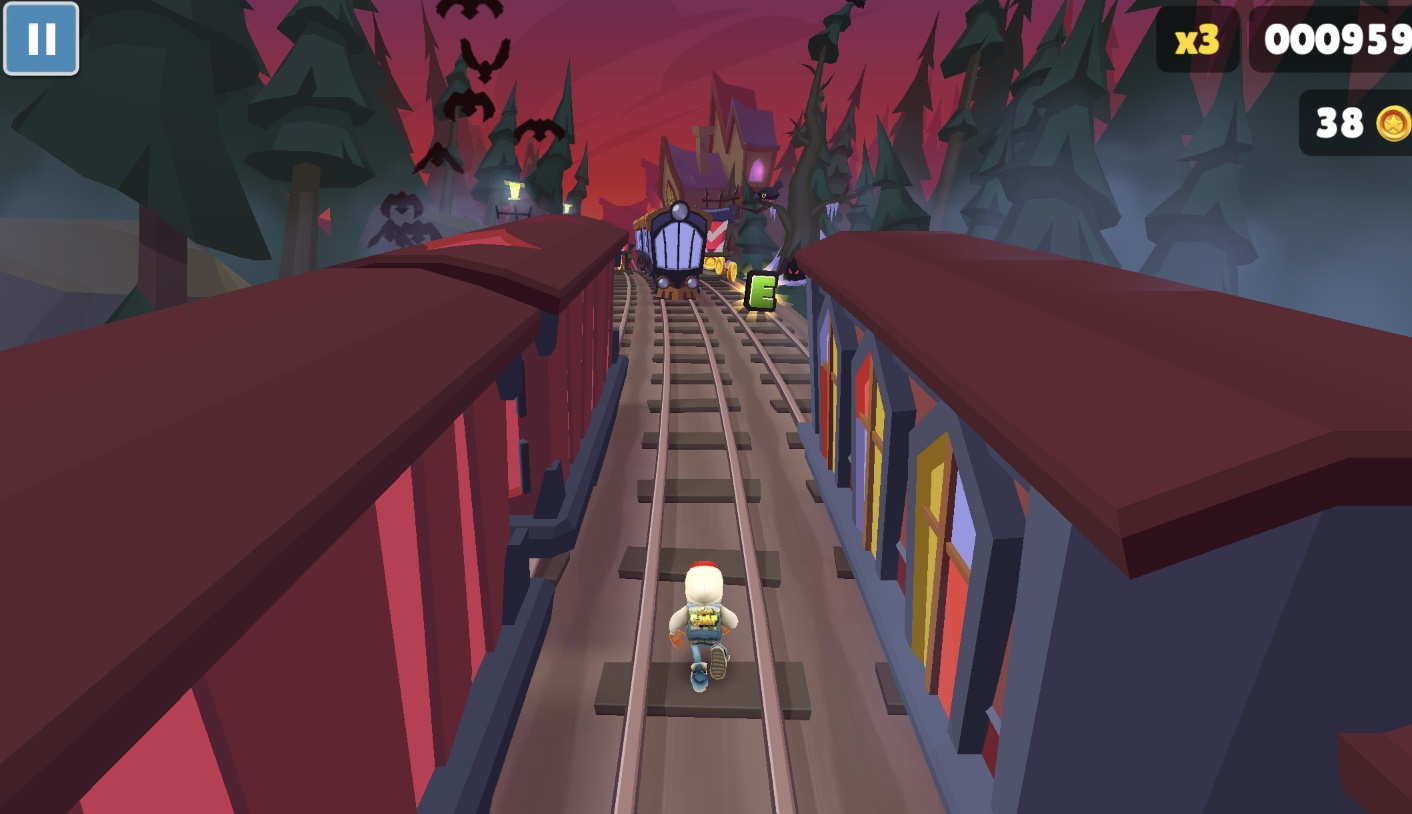ground_barrier: (614, 239, 638, 271)
overhead_barrier: (703, 212, 734, 281)
train: (0, 223, 615, 814), (844, 272, 1412, 814), (636, 201, 714, 306)
